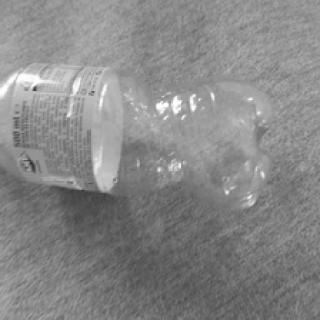plastic_bottles: (1, 65, 276, 203)
